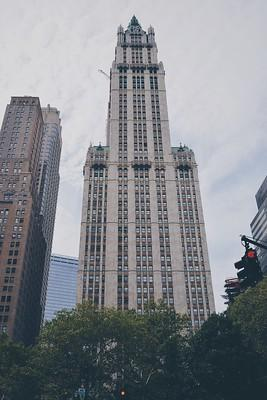building: (74, 10, 222, 383)
